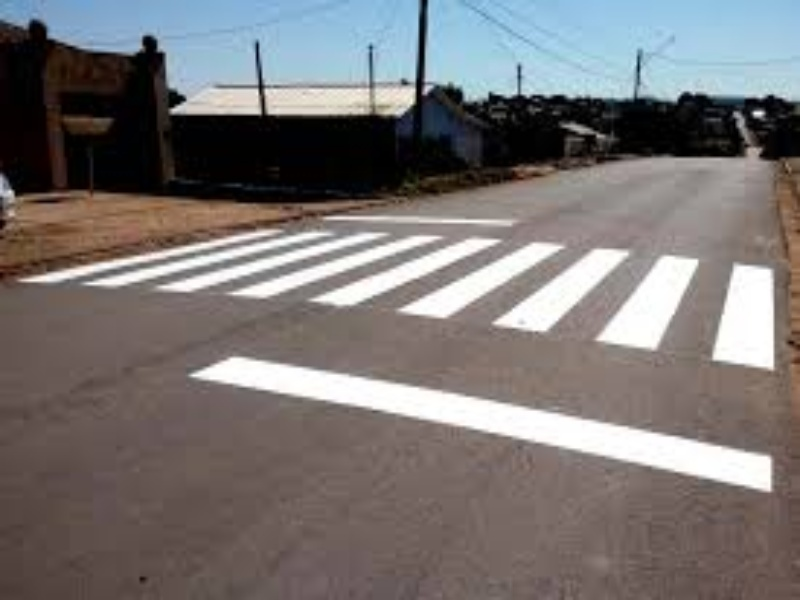zebra cross: (14, 229, 782, 375)
